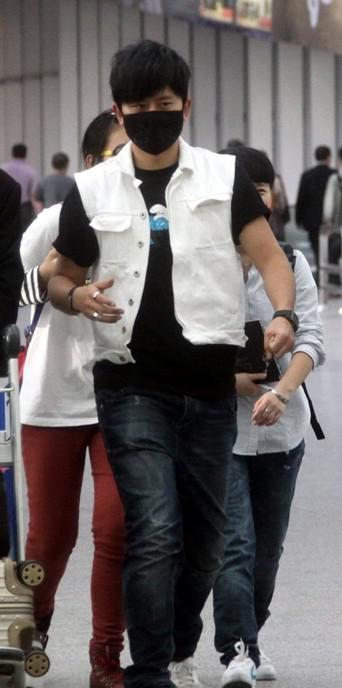OK: (117, 80, 187, 150)
